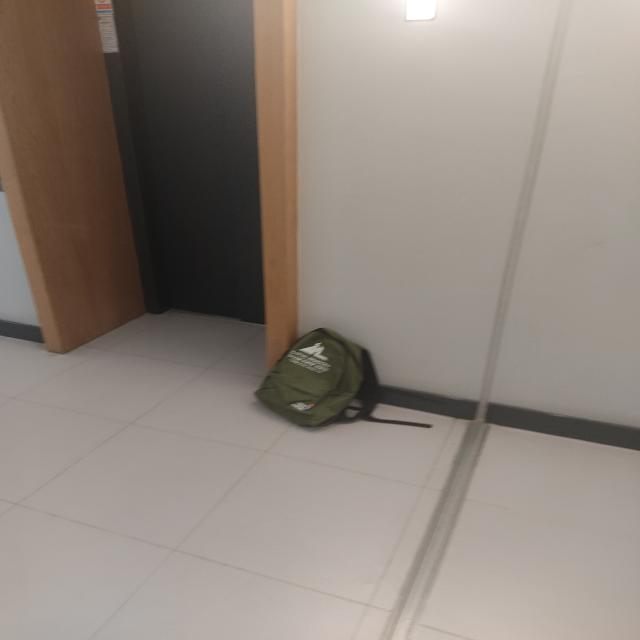bag: (257, 326, 373, 434)
